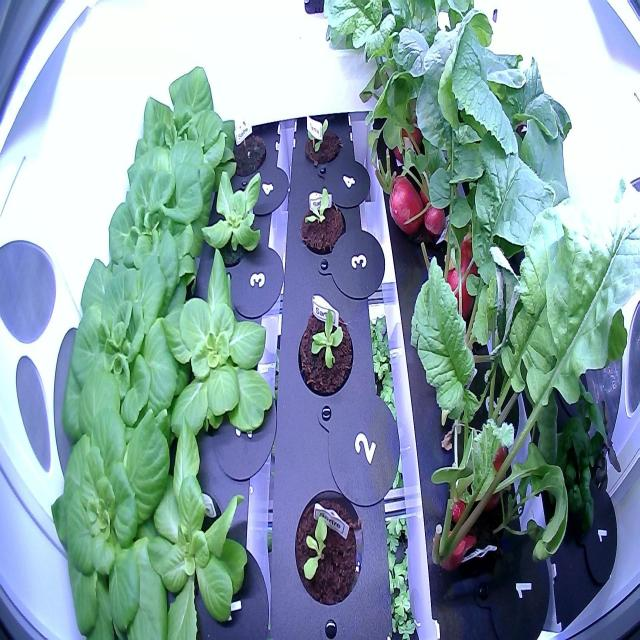pod: (223, 119, 268, 183)
young: (27, 391, 182, 639), (62, 223, 210, 452), (127, 417, 253, 640), (158, 246, 282, 444), (101, 137, 217, 291), (123, 59, 240, 201), (290, 475, 370, 620), (292, 289, 360, 401), (198, 159, 272, 261), (294, 181, 352, 264), (300, 108, 344, 178)
